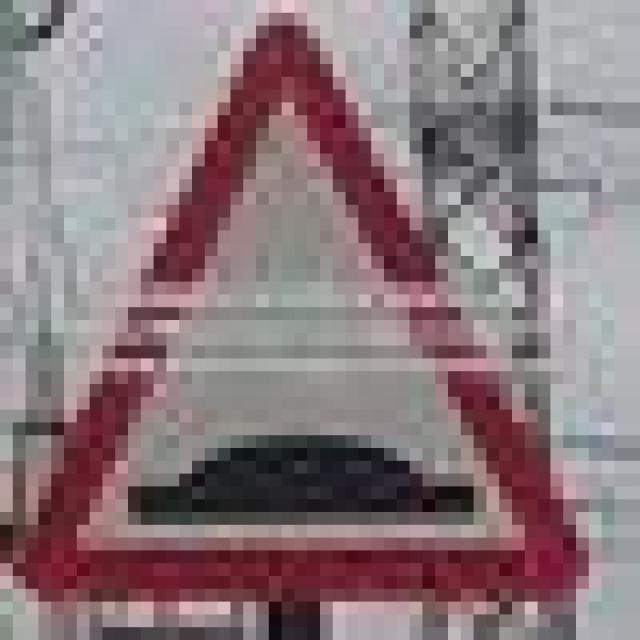horn_prohibited: (13, 0, 576, 589)
